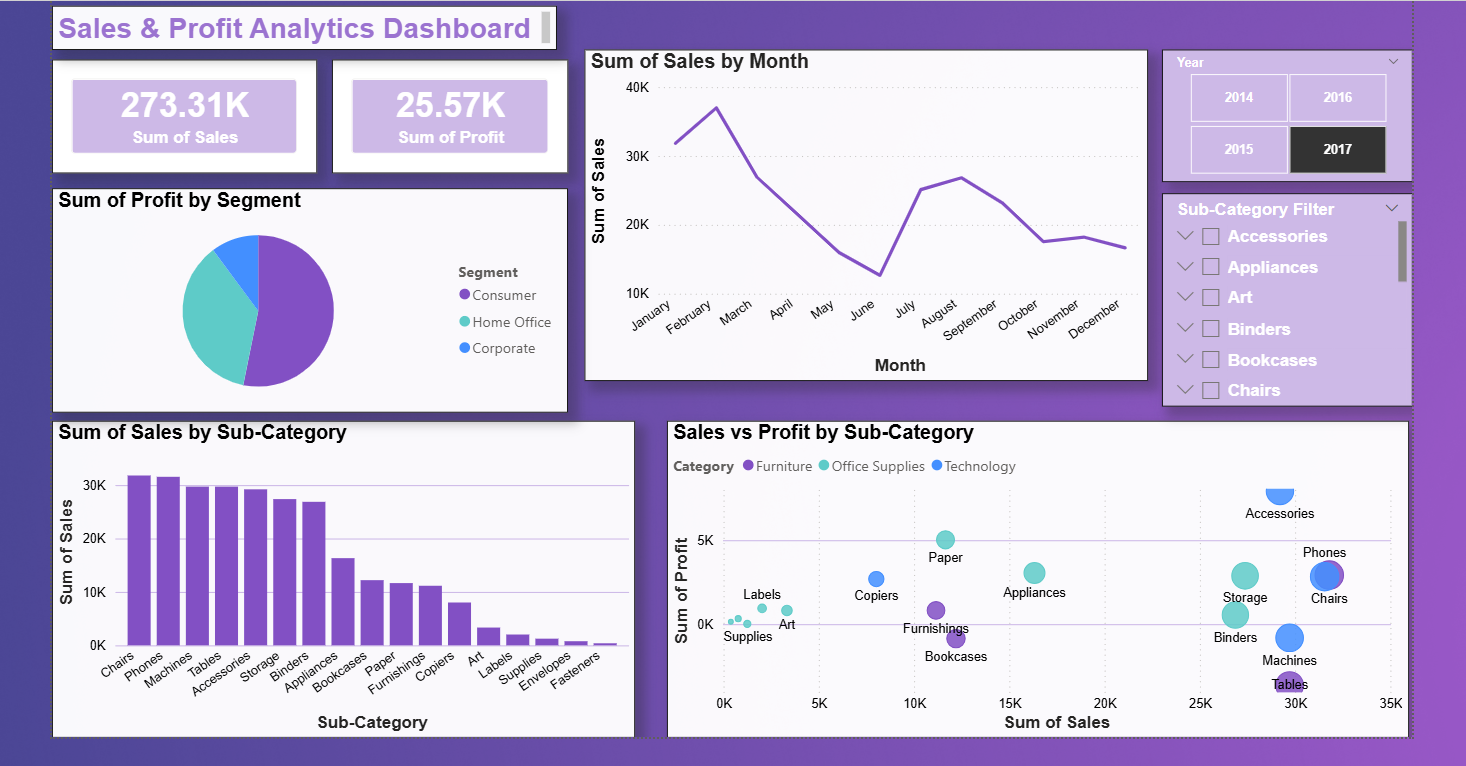

This screenshot's page, from the dashboard's own definition file:
{"tool":"powerbi","page":{"name":"DashBoard","canvas":[1280,720],"ordinal":8},"visuals":[{"type":"cardVisual","fields":{"Data":["Sum(Sample - Superstore.Sales)"]},"box":[0,81.8,249.7,107],"z":0},{"type":"cardVisual","fields":{"Data":["Sum(Sample - Superstore.Profit)"]},"box":[263.4,81.8,222.5,107],"z":1000},{"type":"columnChart","fields":{"Y":["Sum(Sample - Superstore.Sales)"],"Category":["Sample - Superstore.Sub-Category"]},"box":[0,421.9,549.1,298.4],"z":2000},{"type":"lineChart","fields":{"Y":["Sum(Sample - Superstore.Sales)"],"Category":["Sample - Superstore.Year","Sample - Superstore.Order Date.Variation.Date Hierarchy.Month"]},"box":[501.4,73.4,530.7,311.8],"z":3000},{"type":"pieChart","fields":{"Category":["Sample - Superstore.Segment"],"Y":["Sum(Sample - Superstore.Profit)"]},"box":[0,203.6,485.9,210.9],"z":4000},{"type":"slicer","fields":{"Values":["Sample - Superstore.Year"]},"box":[1044.3,73.4,236,124.7],"z":5000},{"type":"scatterChart","title":"Sales vs Profit by Sub-Category","fields":{"X":["Sum(Sample - Superstore.Sales)"],"Y":["Sum(Sample - Superstore.Profit)"],"Category":["Sample - Superstore.Sub-Category"],"Series":["Sample - Superstore.Category"],"Size":["Sum(Sample - Superstore.Sales)"]},"box":[578.4,421.9,698.2,298.4],"z":6000},{"type":"slicer","title":"Data Filters","fields":{"Values":["Sample - Superstore.Sub-Category","Sample - Superstore.Ship Mode","Sample - Superstore.Order Date.Variation.Date Hierarchy.Year"]},"box":[1044.3,207.9,236,200.5],"z":7000},{"type":"qnaVisual","box":[0,0,91.2,12.5],"z":8000},{"type":"textbox","box":[0,31.5,475.4,42],"z":9000}]}

Visuals, with their boxes in screenshot pixels (x1, y1, x2, y2):
cardVisual - Sum(Sample - Superstore.Sales): x1=50, y1=63, x2=312, y2=176
cardVisual - Sum(Sample - Superstore.Profit): x1=326, y1=63, x2=560, y2=176
columnChart - Sum(Sample - Superstore.Sales) x Sample - Superstore.Sub-Category: x1=50, y1=421, x2=627, y2=734
lineChart - Sum(Sample - Superstore.Sales) x Sample - Superstore.Year: x1=577, y1=54, x2=1134, y2=382
pieChart - Sample - Superstore.Segment x Sum(Sample - Superstore.Profit): x1=50, y1=191, x2=560, y2=413
slicer - Sample - Superstore.Year: x1=1147, y1=54, x2=1395, y2=185
"Sales vs Profit by Sub-Category" scatterChart: x1=658, y1=421, x2=1391, y2=734
"Data Filters" slicer: x1=1147, y1=196, x2=1395, y2=406
textbox: x1=50, y1=10, x2=549, y2=54
